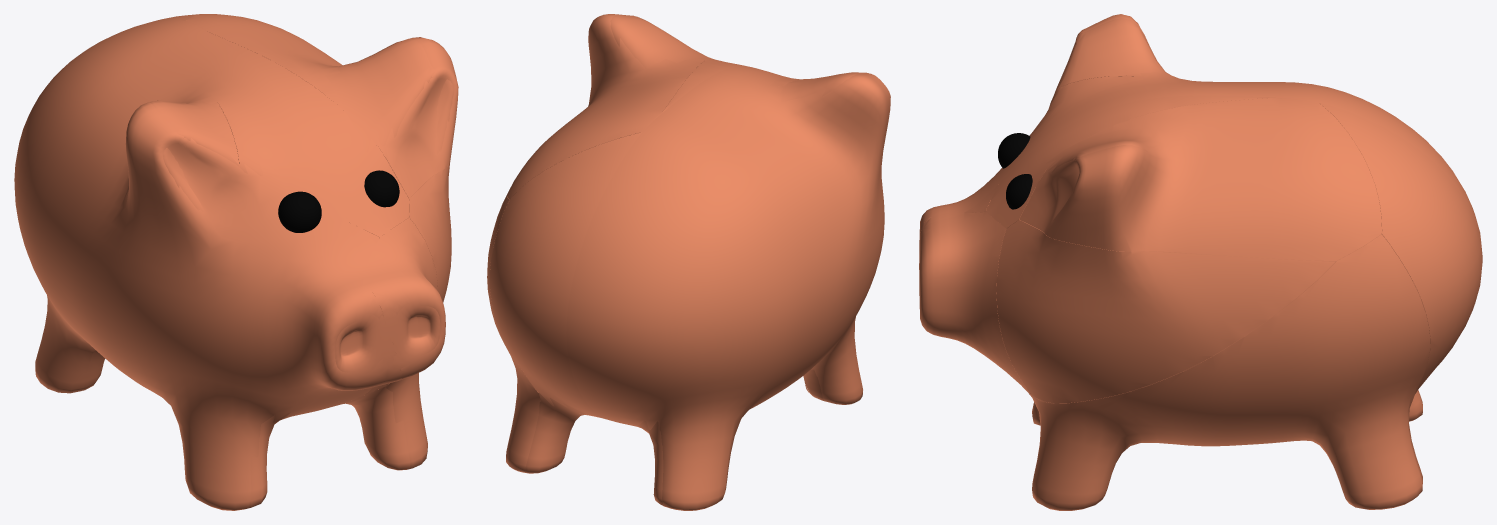
The model's file is pigcell+main.fbx.
3 views of the same model, side by side, from view 1: azimuth 30°, elevation 25°; view 2: azimuth 150°, elevation 25°; view 3: azimuth 270°, elevation 25° (orthographic). The views are drawn at different scales.
Parts seen in each view (by area): view 1: Pig, Cube_cell, Cube_cell.001, Cube_cell.002, Cube_cell.008, Cube_cell.003, Cube_cell.004, Cube_cell.007, Pig.001, Cube_cell.005, Cube_cell.006, Cube_cell.009; view 2: Pig, Cube_cell.009, Cube_cell, Cube_cell.004, Cube_cell.008, Cube_cell.001; view 3: Cube_cell.004, Cube_cell, Cube_cell.003, Cube_cell.009, Pig, Cube_cell.002, Cube_cell.001, Cube_cell.008.
Part boxes in pixels (<box>): Pig: <box>14,18,453,510</box>; Cube_cell: <box>185,14,458,198</box>; Cube_cell.001: <box>208,32,408,237</box>; Cube_cell.002: <box>365,218,445,394</box>; Cube_cell.008: <box>150,100,238,211</box>; Cube_cell.003: <box>409,159,451,302</box>; Cube_cell.004: <box>318,373,427,468</box>; Cube_cell.007: <box>335,290,401,401</box>; Pig.001: <box>278,171,387,232</box>; Cube_cell.005: <box>249,401,346,508</box>; Cube_cell.006: <box>347,222,379,264</box>; Cube_cell.009: <box>82,14,203,390</box>; Pig: <box>519,15,890,510</box>; Cube_cell.009: <box>490,132,671,508</box>; Cube_cell: <box>507,14,710,199</box>; Cube_cell.004: <box>487,195,597,471</box>; Cube_cell.008: <box>777,72,868,102</box>; Cube_cell.001: <box>662,59,805,112</box>; Cube_cell.004: <box>1029,234,1430,510</box>; Cube_cell: <box>1019,98,1381,260</box>; Cube_cell.003: <box>996,220,1335,403</box>; Cube_cell.009: <box>1319,103,1482,421</box>; Pig: <box>919,14,1482,488</box>; Cube_cell.002: <box>919,212,1029,393</box>; Cube_cell.001: <box>985,76,1275,228</box>; Cube_cell.008: <box>1056,18,1163,91</box>.
Bounding box in the file's own units: 3.45 × 3.86 × 5.18.
